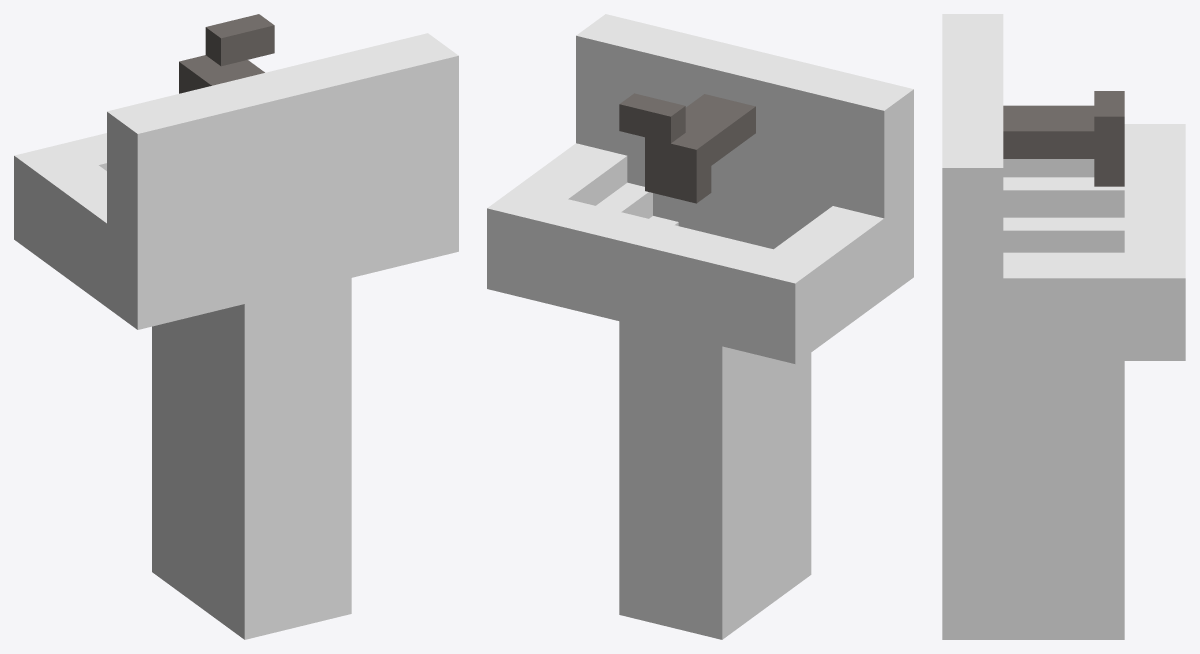
The model's file is pia.obj.
3 renders of one model, left to right at view 1: azimuth 30°, elevation 25°; view 2: azimuth 150°, elevation 25°; view 3: azimuth 270°, elevation 25°, orthographic. The views are drawn at different scales.
Visible parts, largest first — view 1: Model; view 2: Model; view 3: Model.
Boxes of the visible parts, x1,y1,x2,y2 form: Model: (14, 14, 458, 639); Model: (487, 14, 913, 639); Model: (942, 14, 1185, 639).
Bounding box in the file's own units: 20.21 × 32 × 13.47.
1 material, 1 textured.
